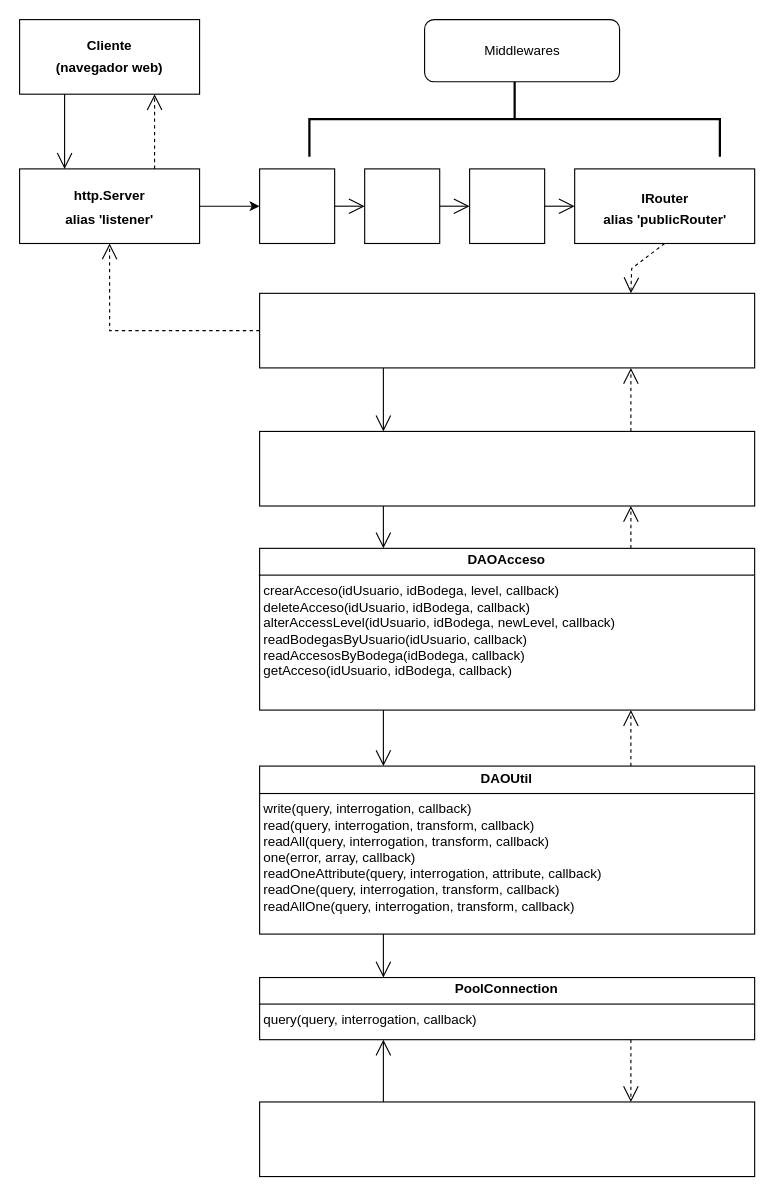
Image size: 782x1196. Some labels were removed from this diagram. Here are the shapes that lost their labels. From the top down, the centre of each, then its label:
the point at 506,330: Public crearSesion(request, response)
the point at 506,468: Controller isLoginCorrect(correo, contrasena, callback)
the point at 506,1139: MySQL (SGBD)
